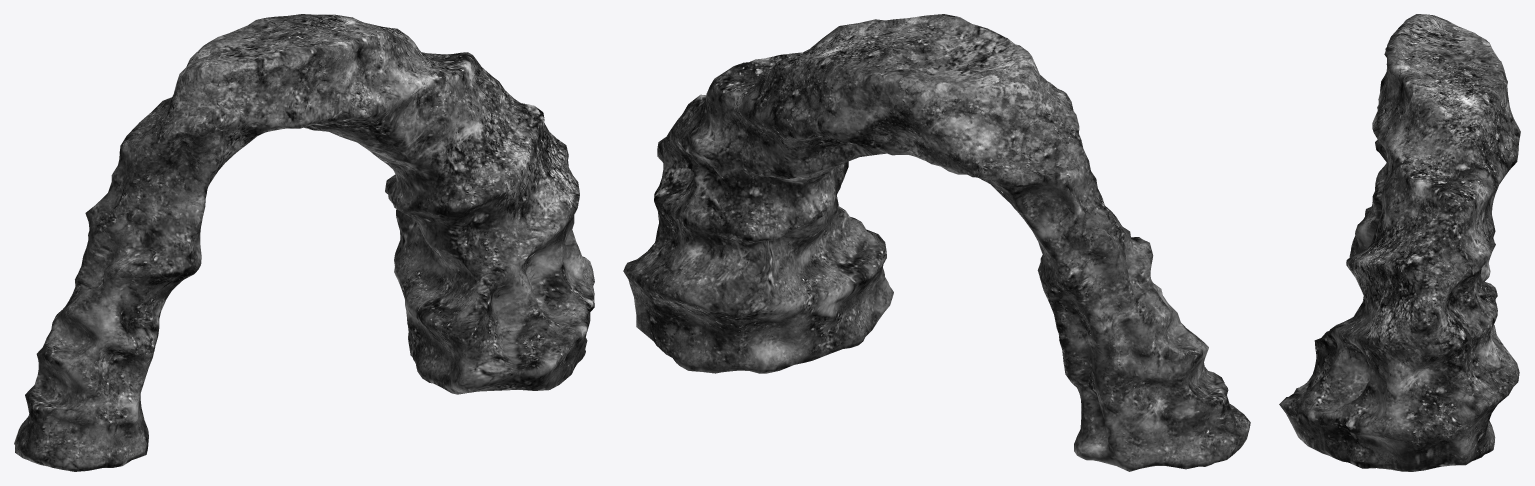
File: SmallArch_Blend.glb
3 views of the same model, side by side, from view 1: azimuth 30°, elevation 25°; view 2: azimuth 150°, elevation 25°; view 3: azimuth 270°, elevation 25° (orthographic). The views are drawn at different scales.
Visible parts, largest first — view 1: Arch Small; view 2: Arch Small; view 3: Arch Small.
Boxes of the visible parts, left/top/right/bottom form: Arch Small: left=14, top=14, right=594, bottom=471; Arch Small: left=623, top=14, right=1250, bottom=471; Arch Small: left=1279, top=14, right=1520, bottom=471.
Size of the model in its own units: 137 by 81.99 by 56.15.
Materials: 2 (2 with a texture image).
